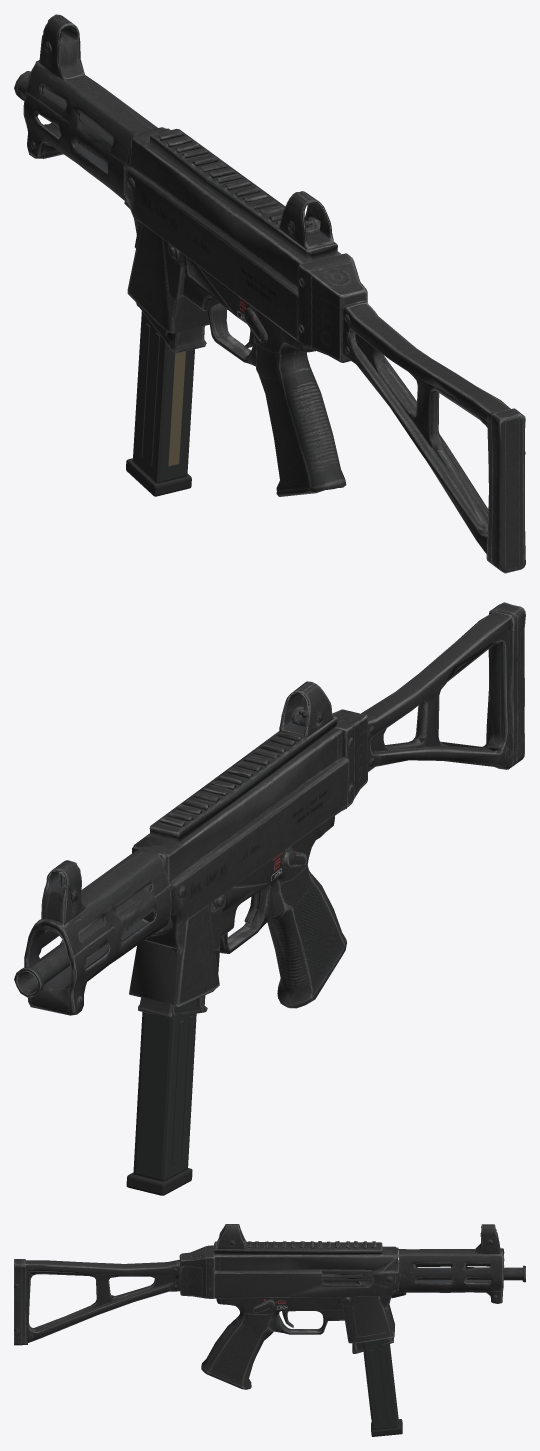
Rendered from ump.glb.
The picture shows the model from 3 angles, top to bottom: view 1: azimuth 30°, elevation 25°; view 2: azimuth 150°, elevation 25°; view 3: azimuth 270°, elevation 25°; orthographic projection. The views are drawn at different scales.
Visible parts, largest first — view 1: Body, Magazine; view 2: Body, Magazine; view 3: Body, Magazine.
Boxes of the visible parts, x1,y1,x2,y2 form: Body: (14,14,525,573); Magazine: (126,311,194,496); Body: (14,602,525,1017); Magazine: (126,999,197,1195); Body: (14,1224,525,1389); Magazine: (362,1338,402,1436).
Bounding box in the file's own units: 0.0436 × 0.309 × 0.69.
4 materials, 1 textured.
